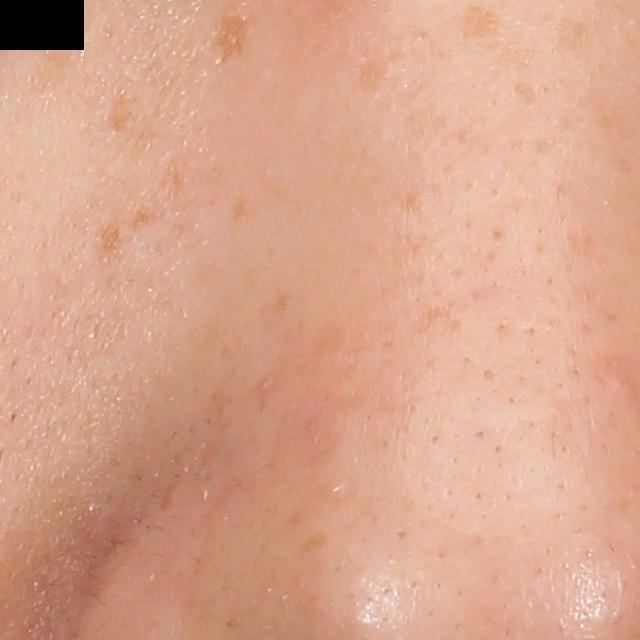melasma: (211, 7, 251, 70), (450, 7, 499, 42), (162, 154, 190, 202), (126, 198, 155, 236), (98, 217, 126, 255), (103, 99, 133, 133), (232, 190, 252, 221)
